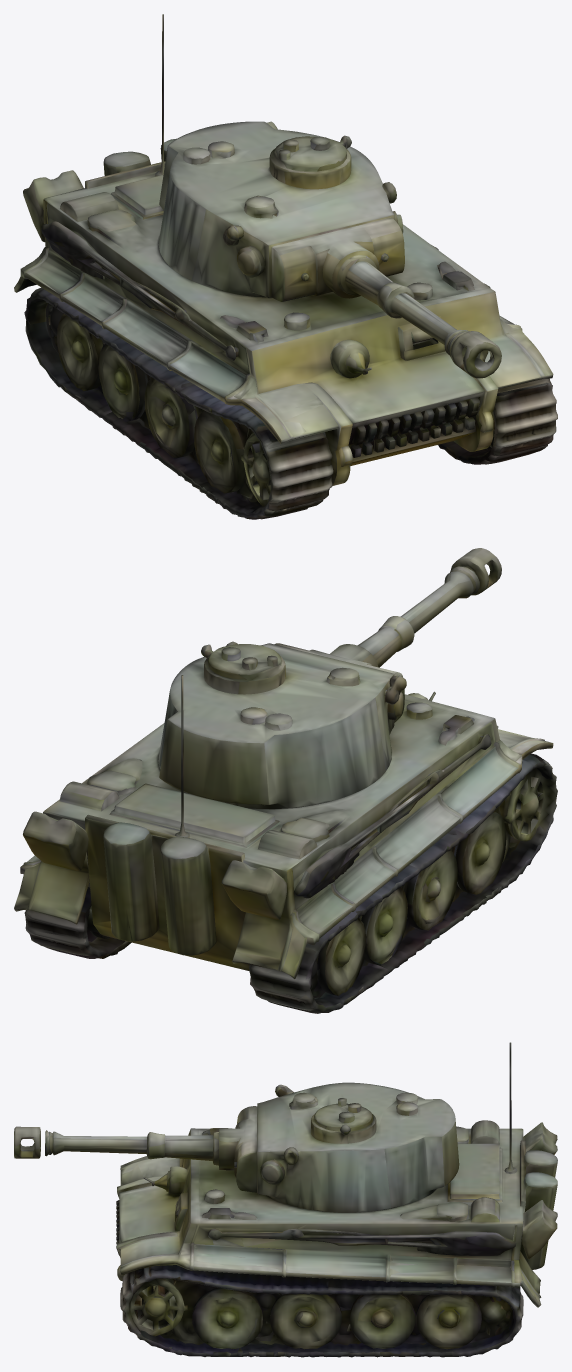
File: tgr_opt.glb
The picture shows the model from 3 angles, top to bottom: view 1: azimuth 30°, elevation 25°; view 2: azimuth 150°, elevation 25°; view 3: azimuth 270°, elevation 25°; orthographic projection. The views are drawn at different scales.
Visible parts, largest first — view 1: node_0; view 2: node_0; view 3: node_0.
Boxes of the visible parts, x1=… form: node_0: x1=14, y1=14, x2=557, y2=519; node_0: x1=14, y1=548, x2=557, y2=1013; node_0: x1=14, y1=1042, x2=557, y2=1357.
Bounding box in the file's own units: 0.5481 × 0.5777 × 1.1.
Materials: 1 (1 with a texture image).
